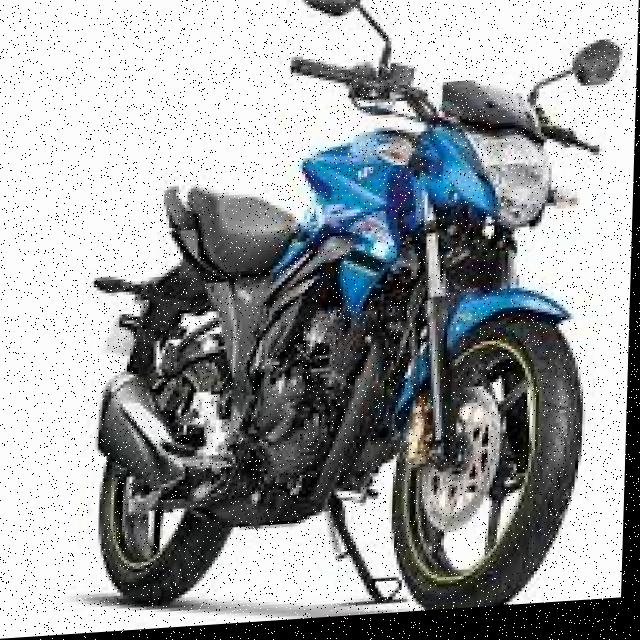bike: (67, 0, 618, 636)
